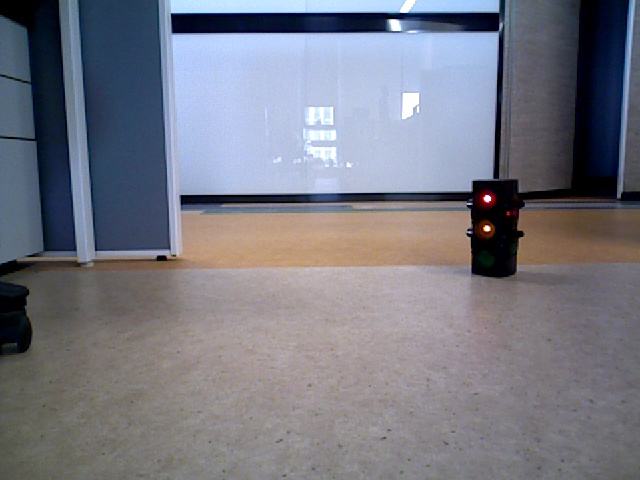red: (474, 183, 511, 270)
